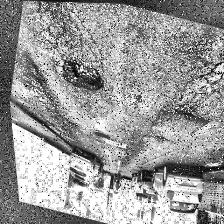pothole: (54, 52, 110, 96)
